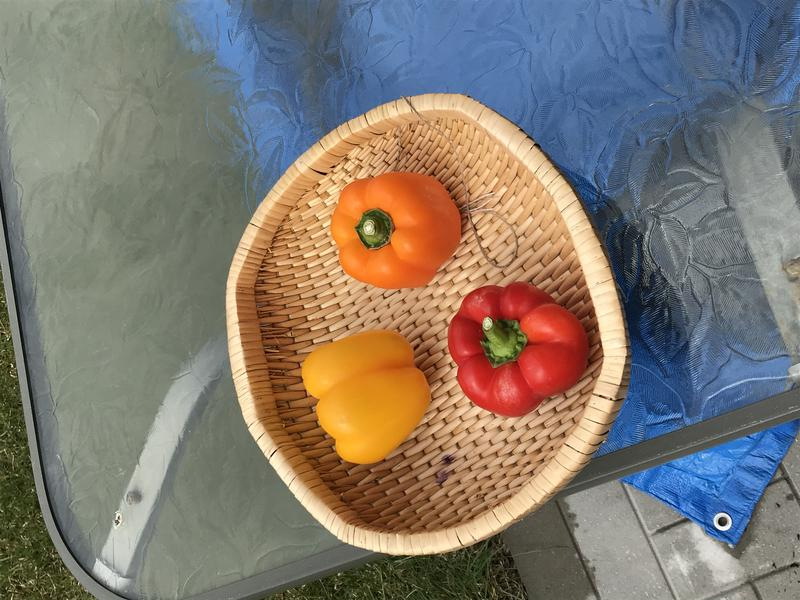orange_pepper: (329, 165, 469, 293)
red_pepper: (441, 282, 593, 420)
yellow_pepper: (293, 325, 434, 474)
